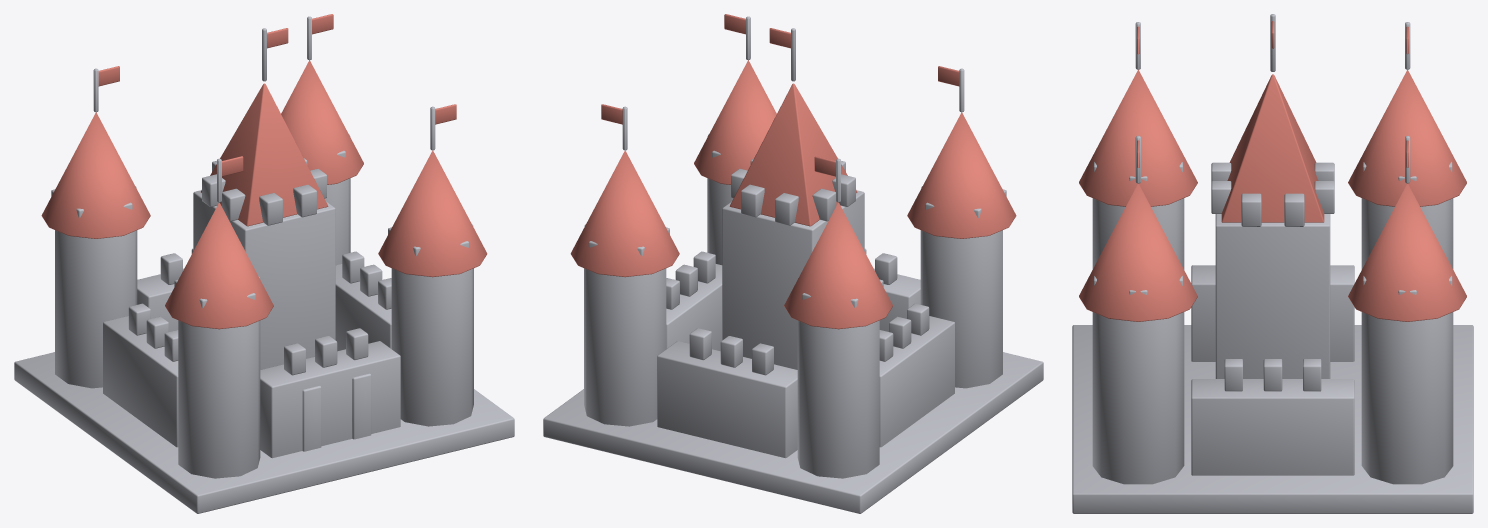
File: castle_t2.glb
3 renders of one model, left to right at view 1: azimuth 30°, elevation 25°; view 2: azimuth 150°, elevation 25°; view 3: azimuth 270°, elevation 25°, orthographic. The views are drawn at different scales.
Visible parts, largest first — view 1: stone, roof; view 2: stone, roof; view 3: stone, roof.
Boxes of the visible parts, <box> form: stone: <box>14,16,514,513</box>; roof: <box>41,14,487,329</box>; stone: <box>543,16,1043,513</box>; roof: <box>570,14,1016,329</box>; stone: <box>1072,14,1473,513</box>; roof: <box>1079,21,1466,321</box>.
Size of the model in its own units: 2.8 by 3.2 by 2.8.
